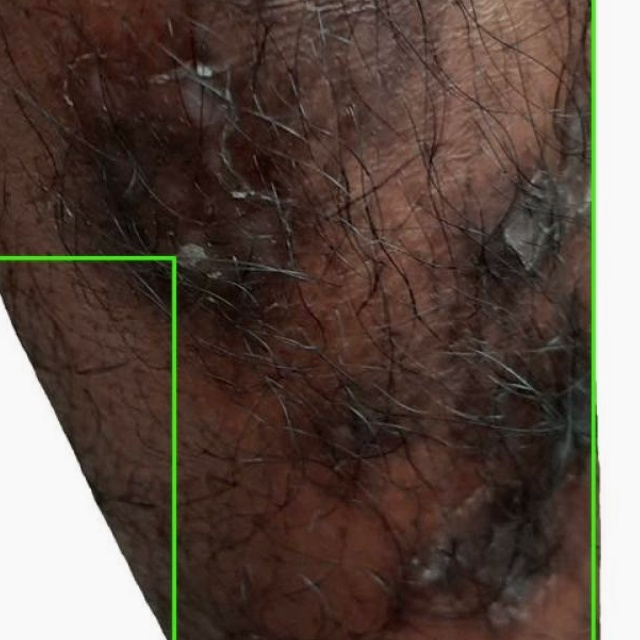Eczema: (0, 257, 174, 639), (593, 0, 639, 639)
